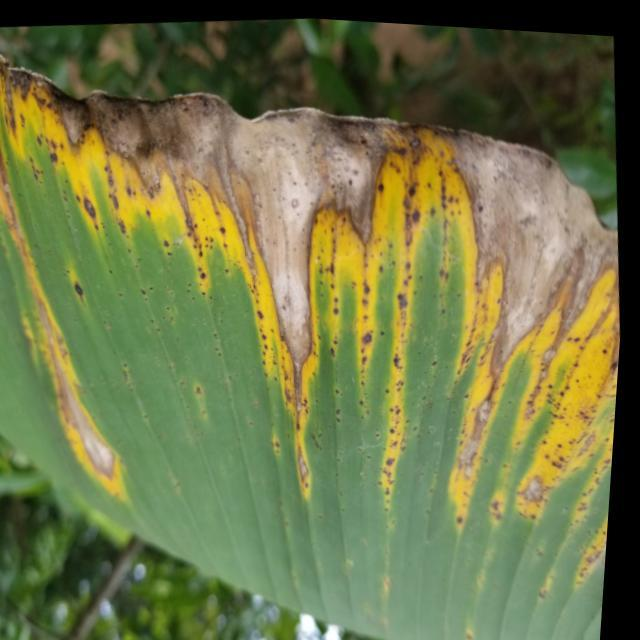Early_rust: (0, 58, 610, 612)
